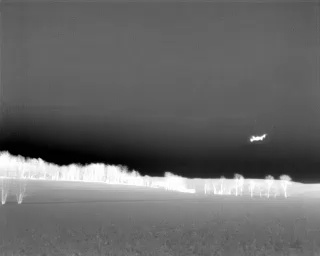DRONE: (245, 129, 271, 148)
